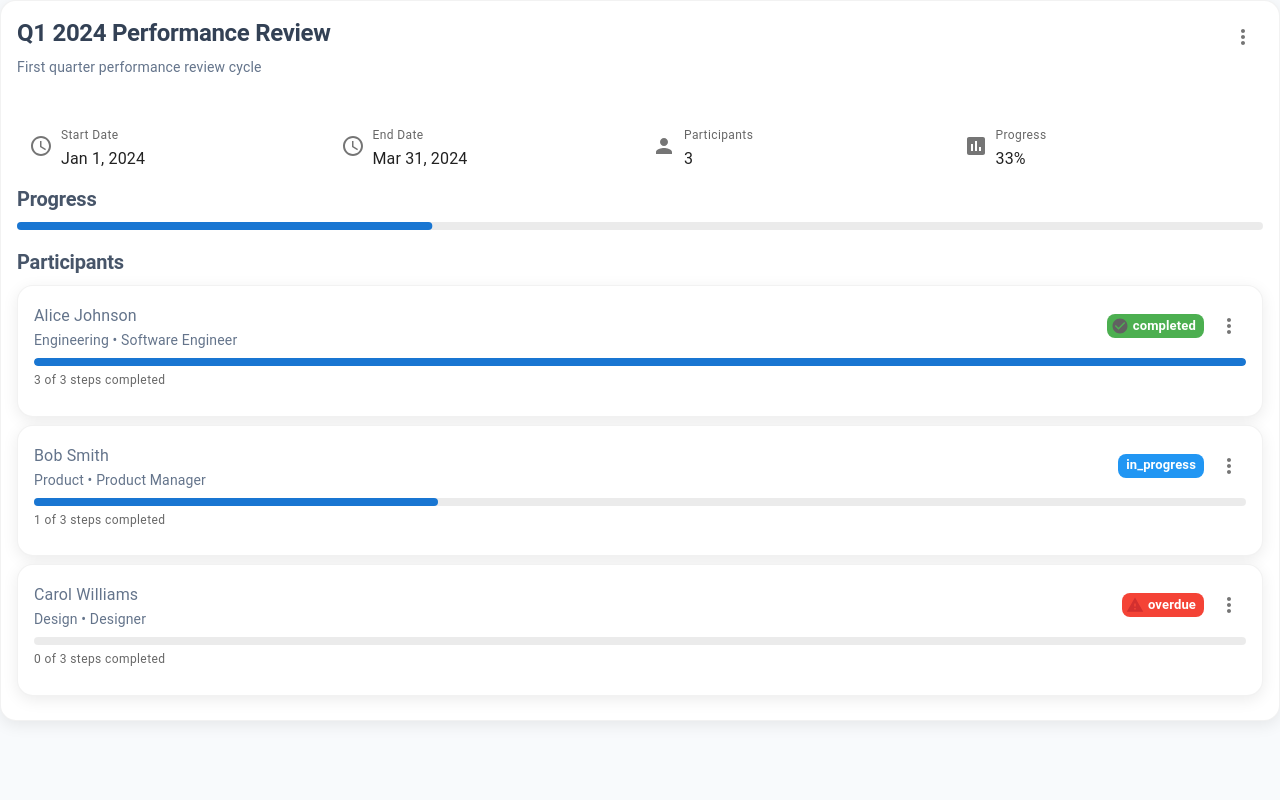
Test: ReviewCycle › shows menu options when clicking more options
The image size is (1280, 800).
Click the button without text in the row of "Q1 2024 Performance Review" at (1243, 37), box [1223, 17, 1263, 57]
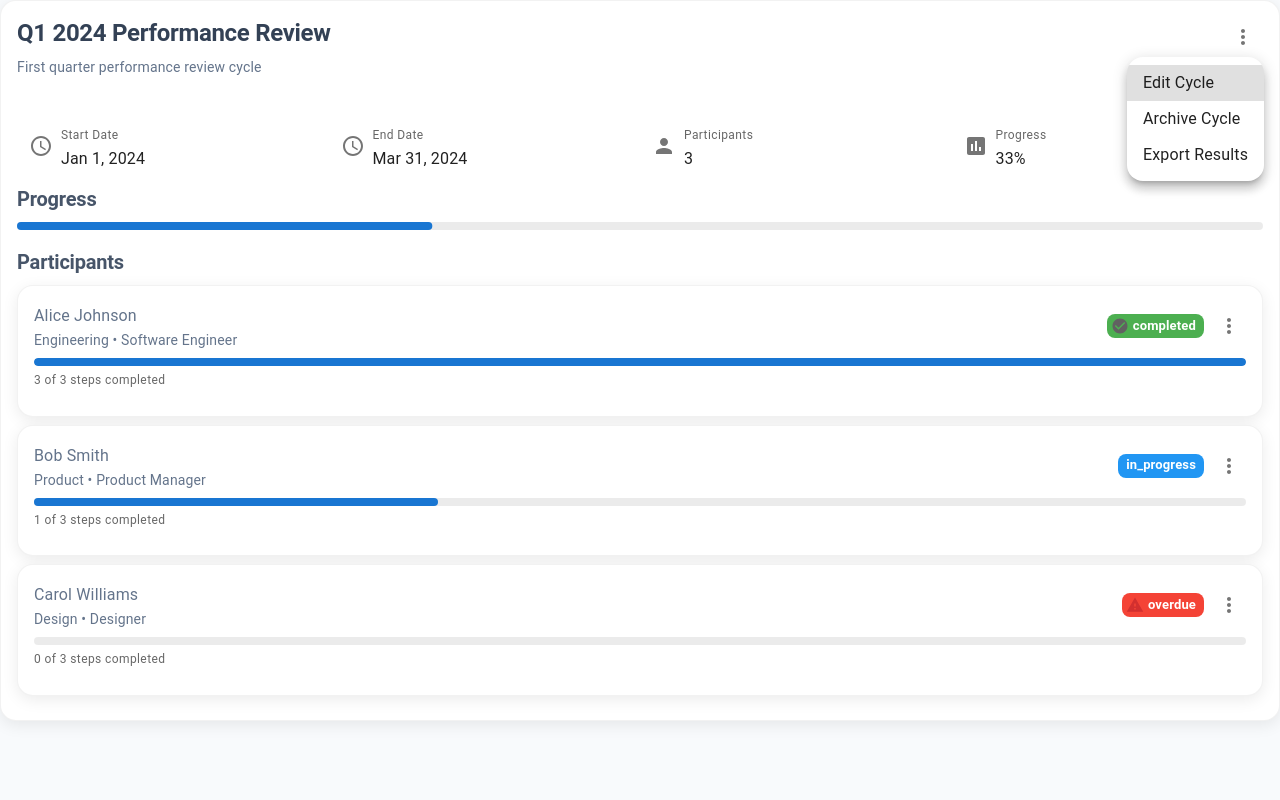
Result: the menu item "Edit Cycle" is shown at [1127, 65, 1264, 101]
Result: the menu item "Archive Cycle" is shown at [1143, 109, 1240, 128]
Result: the menu item "Export Results" is shown at [1143, 145, 1248, 164]
